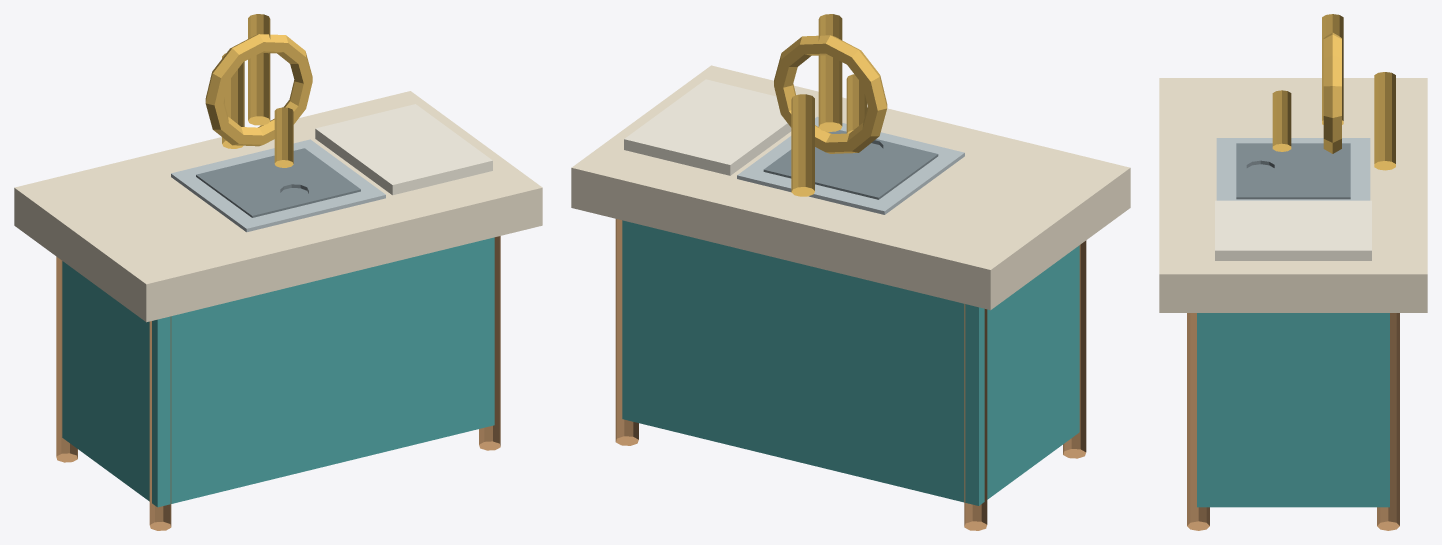
File: sink_single.glb
The picture shows the model from 3 angles, left to right: view 1: azimuth 30°, elevation 25°; view 2: azimuth 150°, elevation 25°; view 3: azimuth 270°, elevation 25°; orthographic projection. The views are drawn at different scales.
Parts seen in each view (by area): view 1: sink_single; view 2: sink_single; view 3: sink_single.
Part boxes in pixels (<box>): sink_single: <box>14,14,542,530</box>; sink_single: <box>571,14,1130,530</box>; sink_single: <box>1159,14,1427,530</box>.
Bounding box in the file's own units: 1.42 × 1.44 × 0.82.
